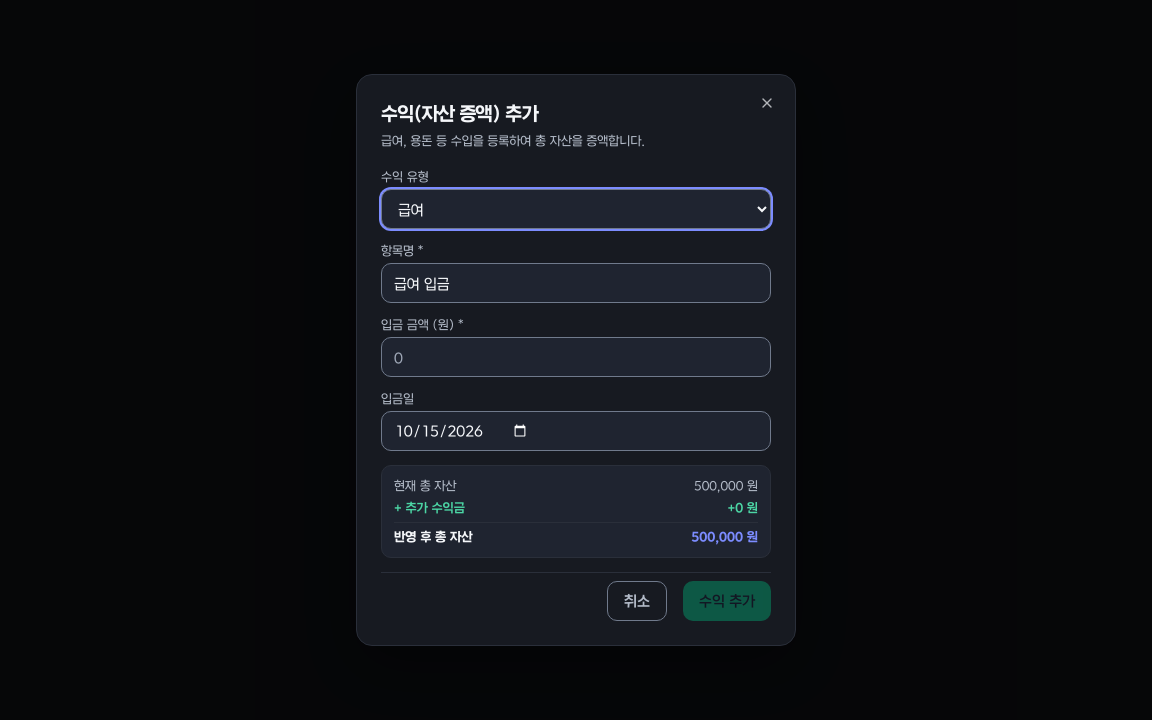
it: IncomeModal › 금액 입력 시 반영 후 총 자산이 올바르게 계산되어 프리뷰된다
This screenshot has width=1152, height=720.
Expected: the text "500,000 원" in the row of "현재 총 자산" is shown, [694, 478, 743, 493]
Type "250000" into the number field labelled "입금 금액 (원) *" at [576, 357], box [381, 337, 771, 377]
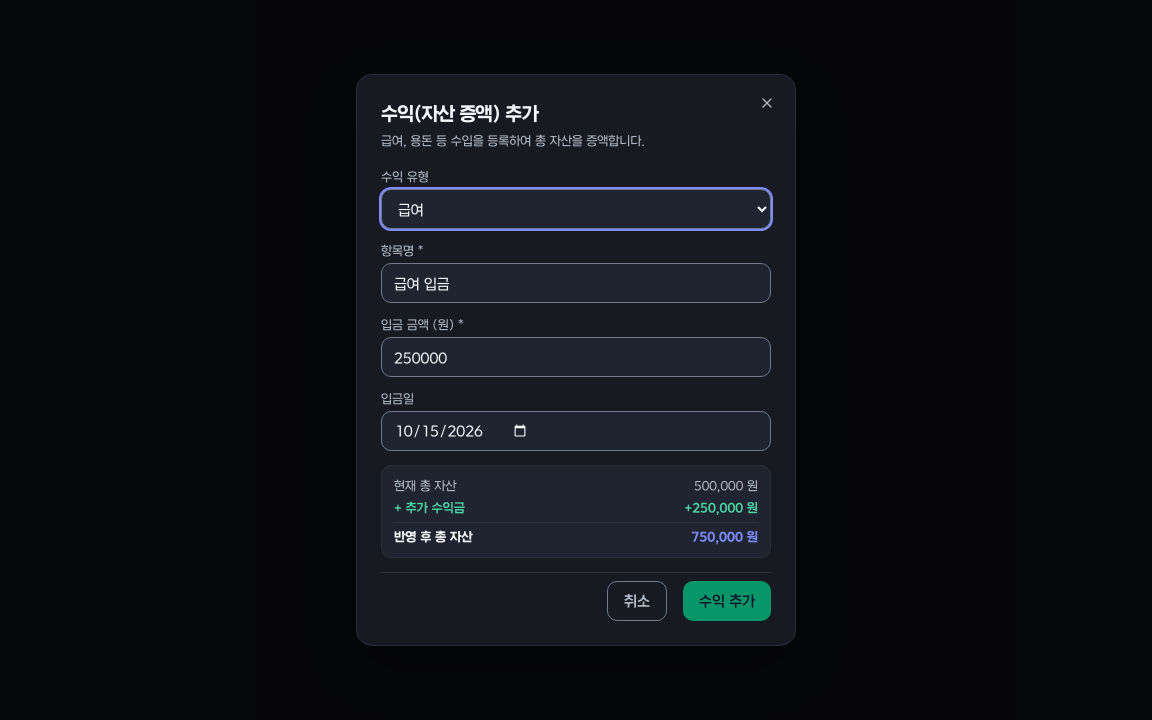
Expected: the text "+250,000 원" is shown, [684, 500, 758, 516]
Expected: the text "750,000 원" is shown, [691, 529, 758, 545]
